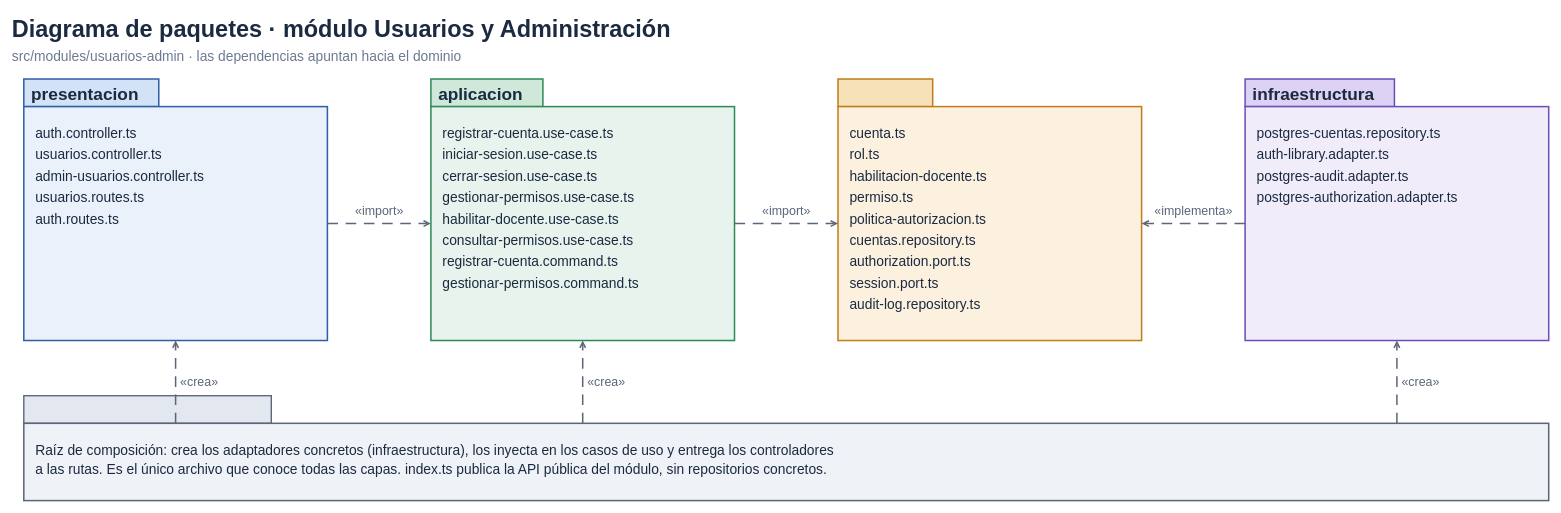
Image size: 1561x513. Some labels were removed from this diagram. Here are the shapes that lost their labels. From the top down, the box of each, then its label:
(837, 78, 933, 107): dominio
(23, 395, 272, 424): usuarios-admin.module.ts
